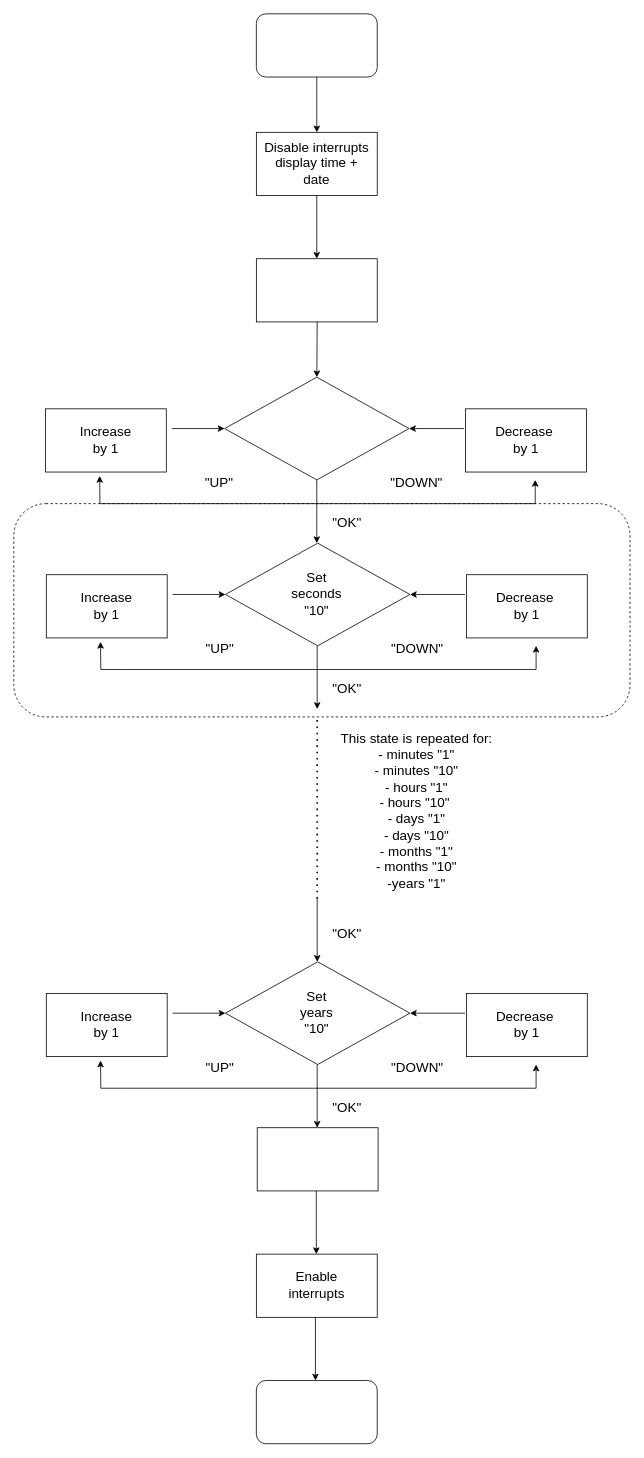
This 644x1458 diagram has some shape labels left out. The shapes that lost their labels are listed below. From the top down, each one's centre as x and y in pixels, then its label:
(x=316, y=45): "OK" button was pressed
(x=316, y=290): Get time from RTC
(x=316, y=428): Set seconds "1"
(x=317, y=1159): Send time to RTC
(x=316, y=1412): Exit time setting mode
